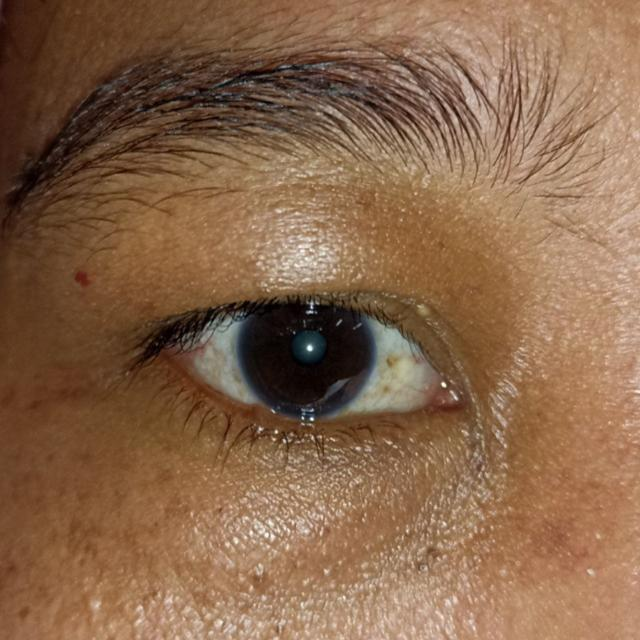Cataract: (238, 282, 378, 419)
